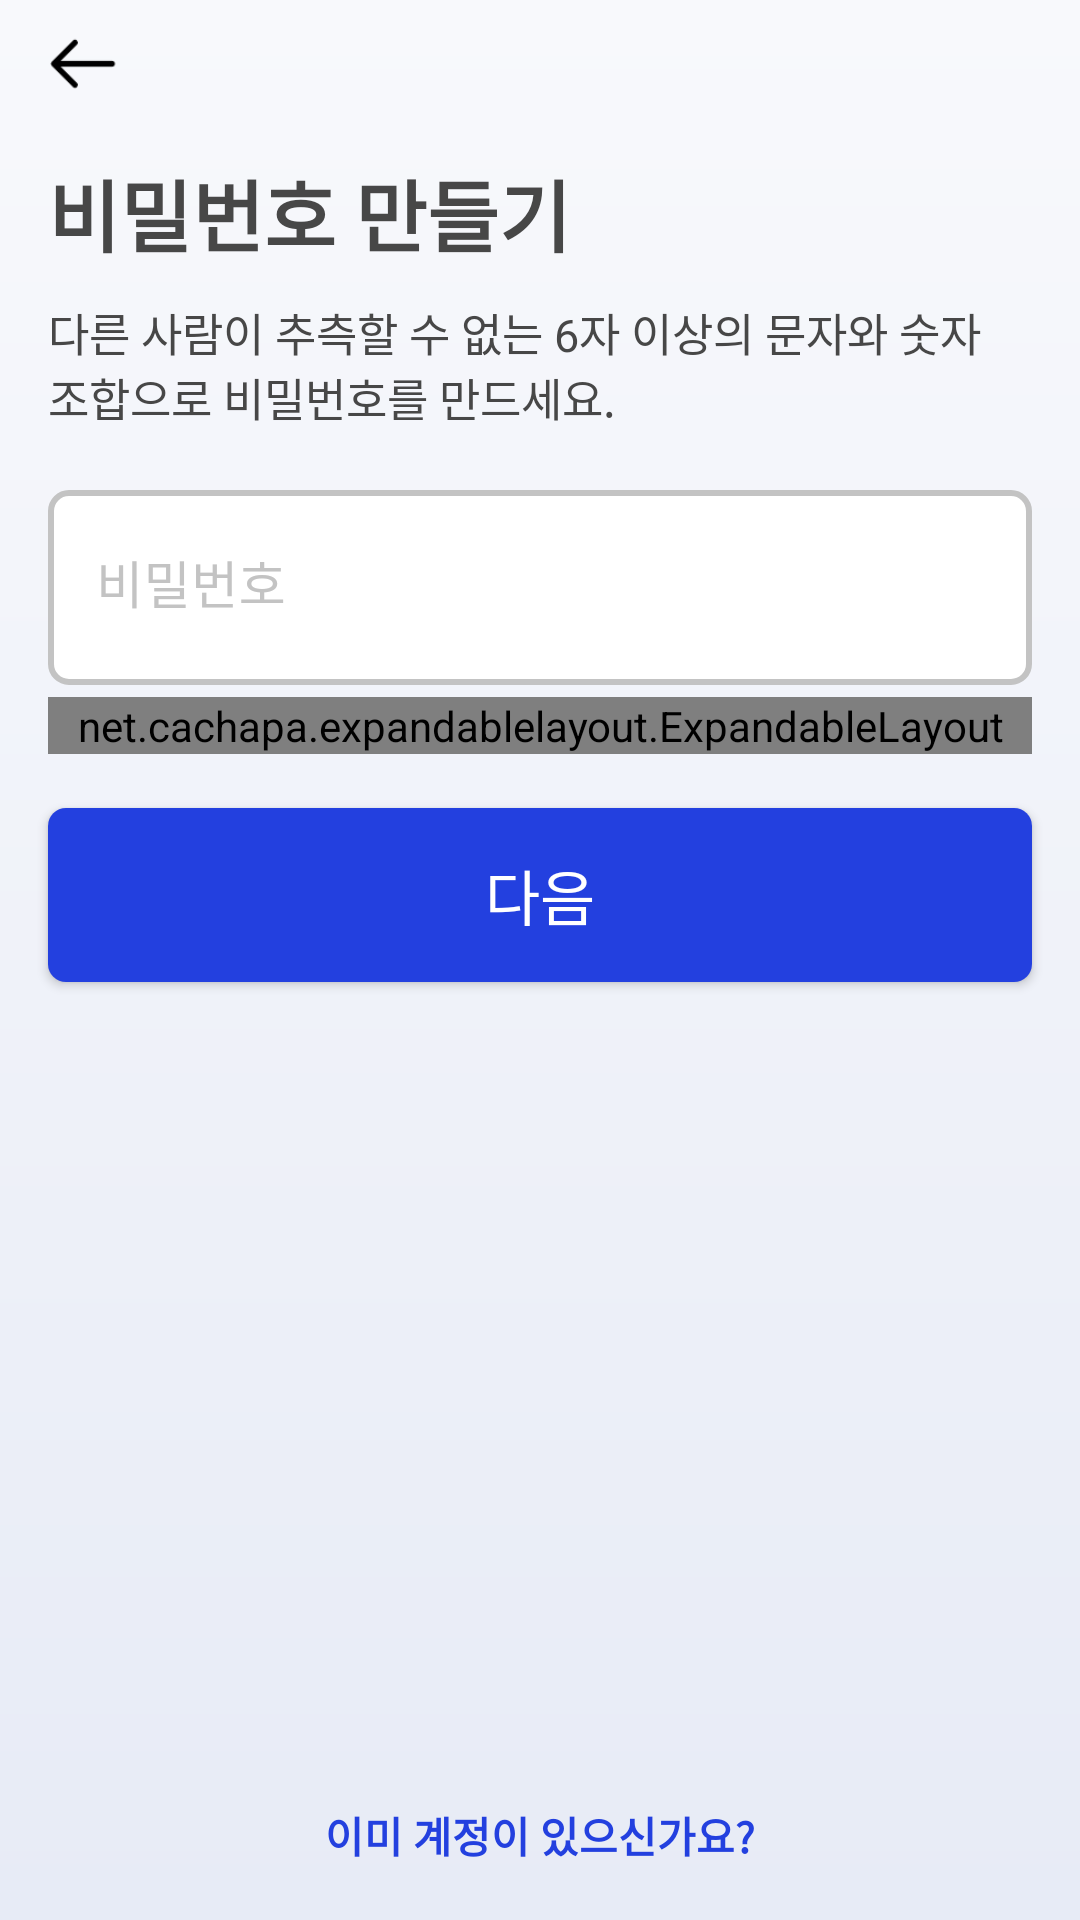

Icons on this 1080*1920 Android screen, each with the point to tap as [x,y]:
back: [83,64]
